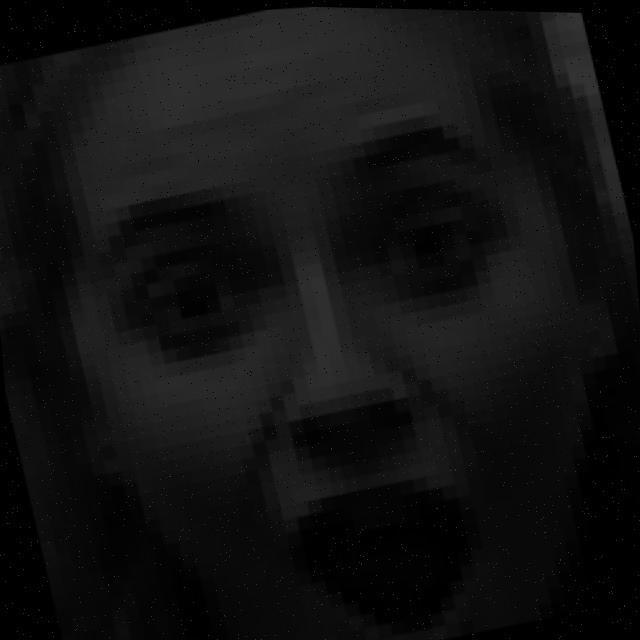Surprised: (89, 80, 536, 640)
